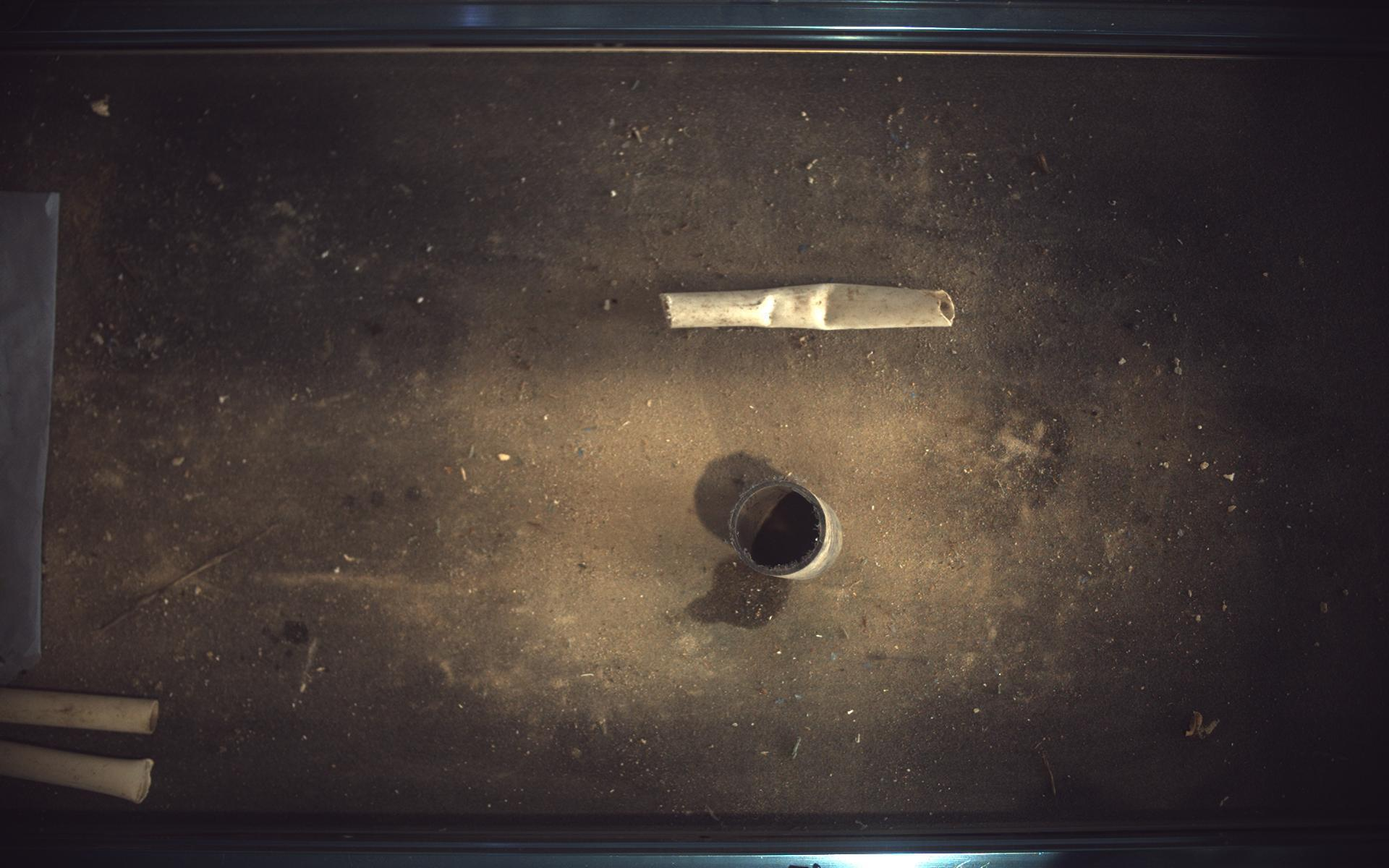pipes: (661, 283, 957, 330), (730, 477, 844, 581), (1, 743, 153, 805), (1, 689, 158, 736)
